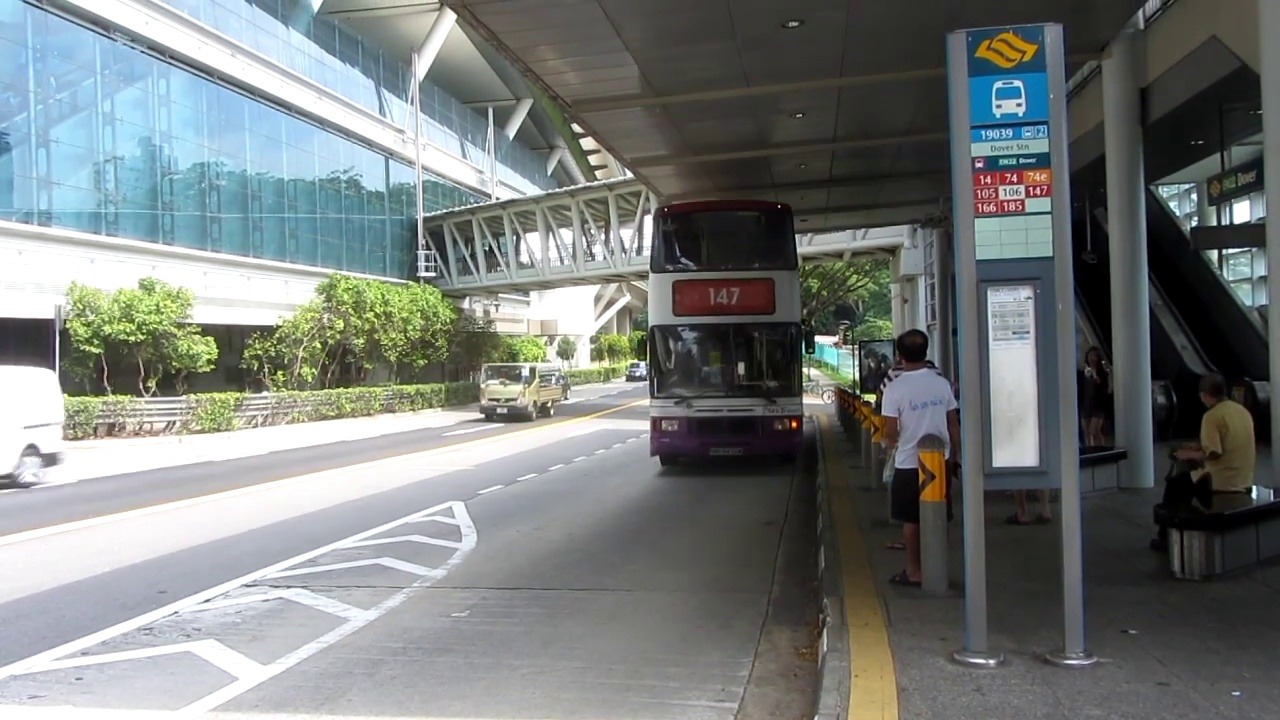bus panel: (670, 277, 778, 318)
